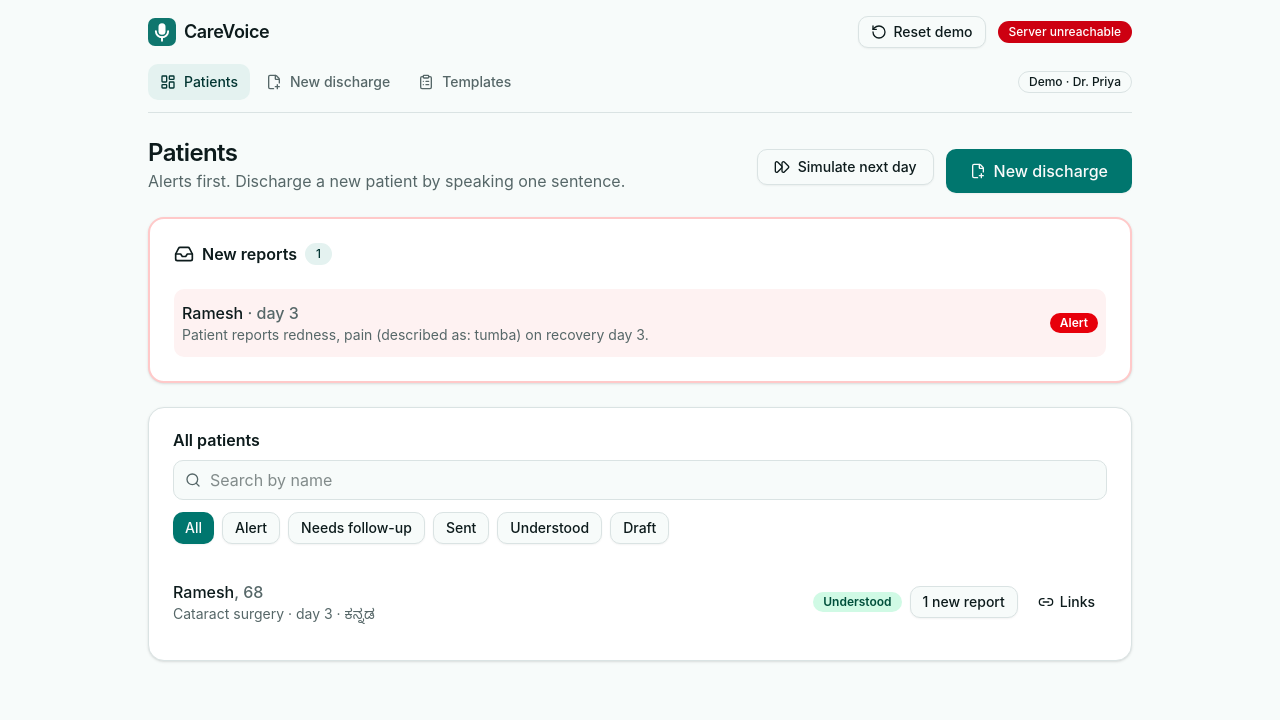
Test: the dashboard shows new reports first and searches patients
The width and height of the screenshot is (1280, 720).
Check: the text "Alert" is shown, box [1050, 313, 1098, 333]
Check: the link "1 new report" is shown, box [910, 586, 1018, 618]
Type "zz" into the search field named "search patients" at (640, 480), box [173, 460, 1107, 500]
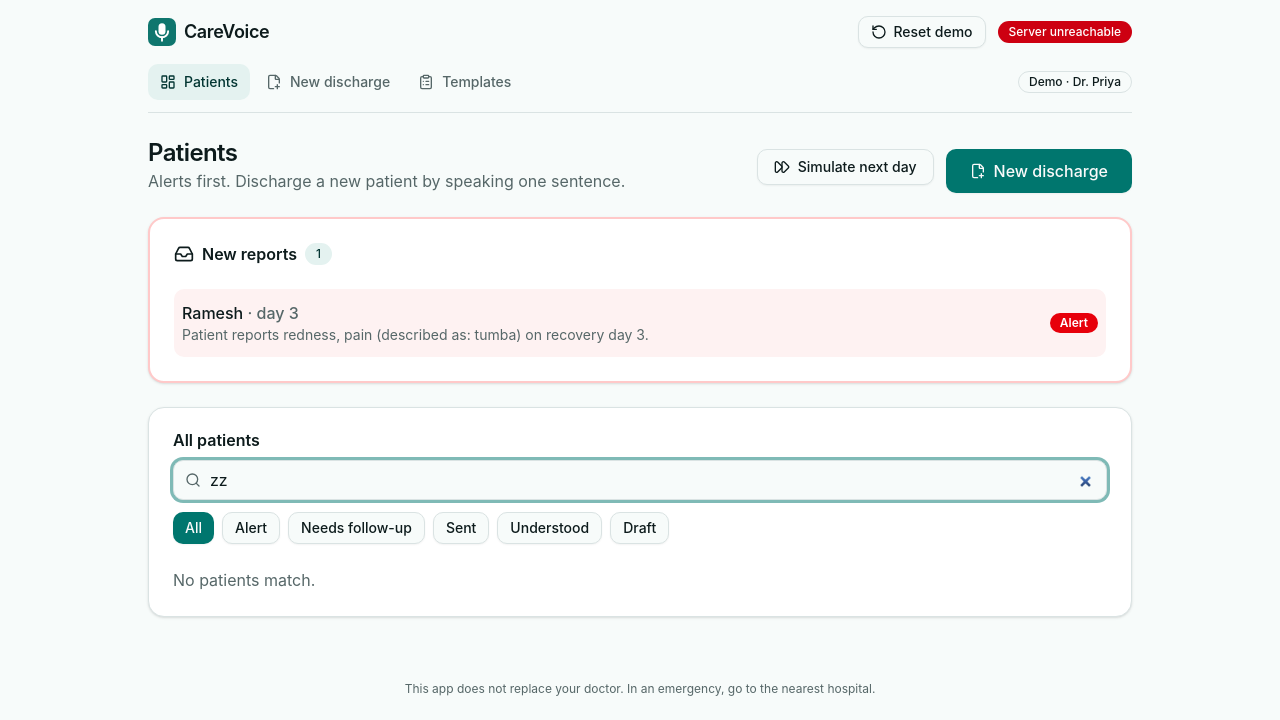
Check: the text "No patients match." is shown, box [173, 570, 315, 590]
